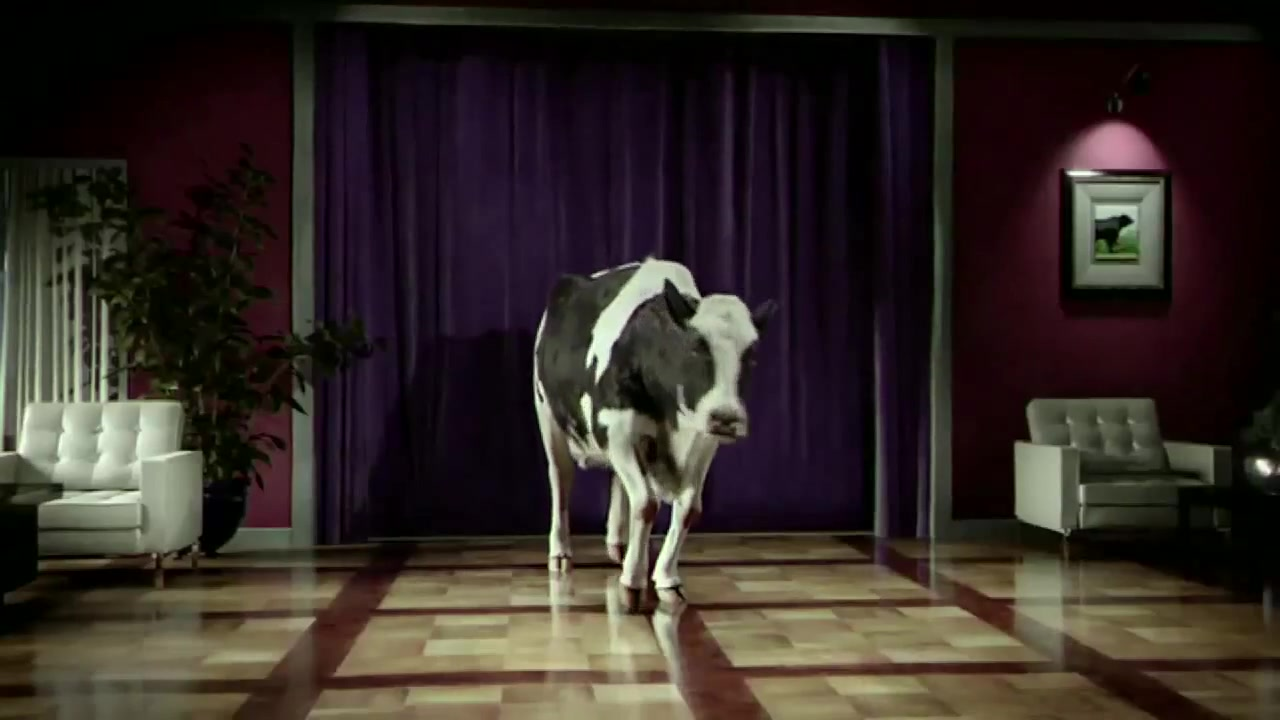cow: (533, 259, 790, 623)
